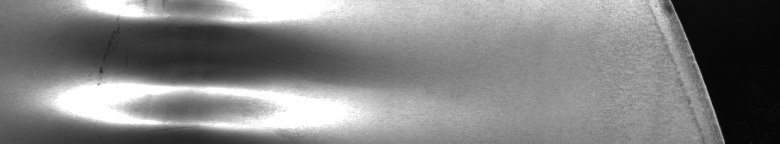ke: (43, 4, 366, 136)
